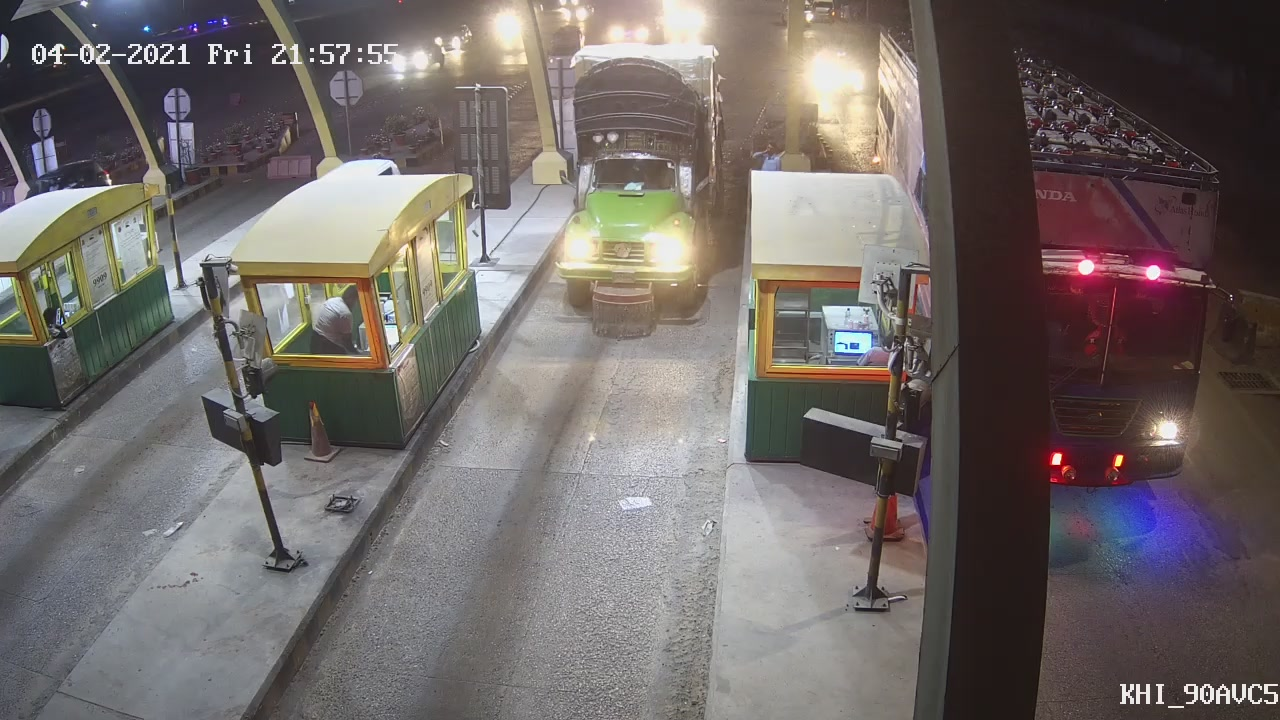F5: (542, 19, 745, 335)
